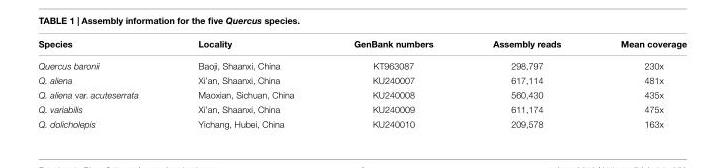table: (37, 37, 686, 128)
table column: (167, 37, 323, 128), (323, 37, 462, 128), (37, 37, 167, 128), (462, 37, 590, 128), (590, 37, 686, 128)
table column header: (37, 37, 686, 54)
table row: (37, 54, 686, 72), (37, 37, 686, 54), (37, 86, 686, 101), (37, 72, 686, 86), (37, 101, 686, 115), (37, 115, 686, 128)
